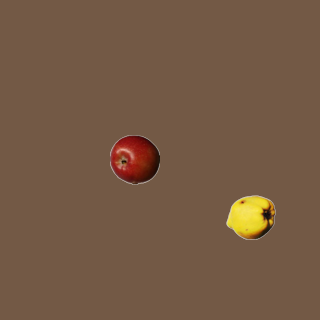Apple Braeburn: (109, 134, 159, 184)
Quince: (225, 192, 275, 242)
